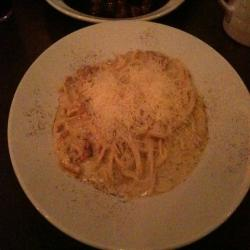carbonara: (39, 44, 216, 195)
